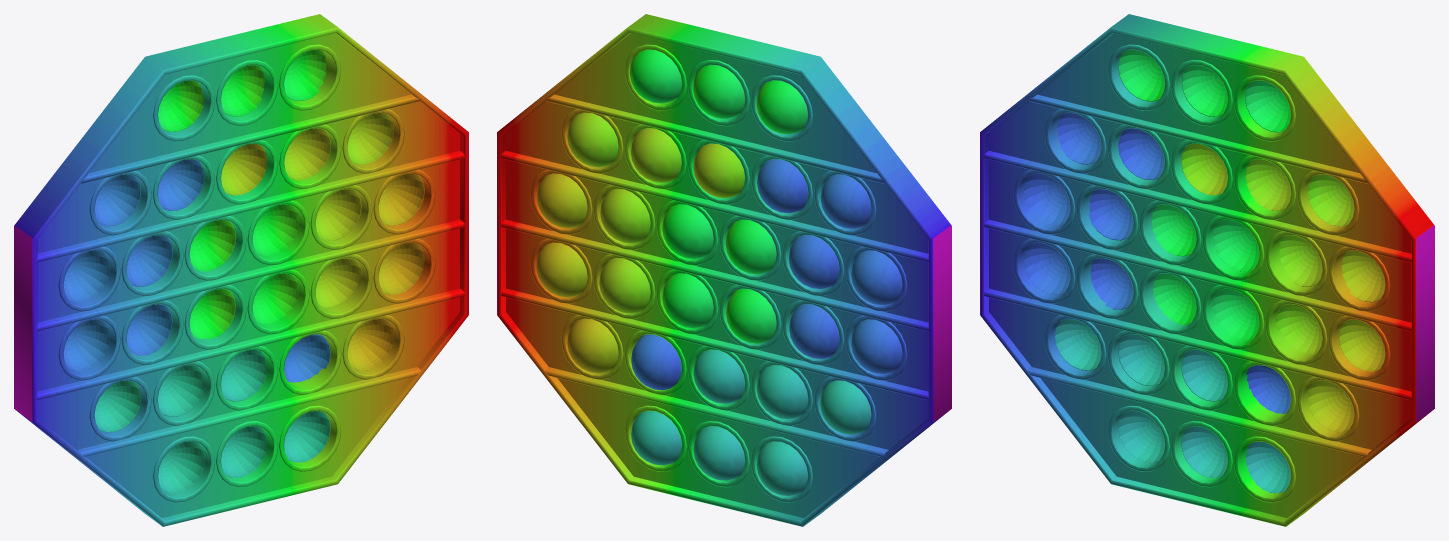
Rendered from Hexa Gone.fbx.
The picture shows the model from 3 angles, left to right: view 1: azimuth 30°, elevation 25°; view 2: azimuth 150°, elevation 25°; view 3: azimuth 330°, elevation 25°; orthographic projection.
Parts seen in each view (by area): view 1: PopIt02_Base_1, Pop19_10, Pop27_4__2_, Pop10_10, Pop03_9, Pop27_4, Pop19_10__5_, Pop20_9, Pop27_4__5_, Pop10_10__3_, Pop03_9__1_, Pop19_10__6_ (+45 smaller); view 2: PopIt02_Base_1, Pop03_9__4_, Pop19_10__4_, Pop10_10__6_, Pop27_4__4_, Pop10_10__1_, Pop19_10__2_, Pop10_10__5_, Pop10_10, Pop03_9__2_, Pop20_9__2_, Pop19_10 (+45 smaller); view 3: PopIt02_Base_1, Pop03_9, Pop20_9, Pop20_9__2_, Pop27_4__4_, Pop10_10, Pop27_4, Pop27_4__1_, Pop19_10, Pop27_4__3_, Pop03_9__2_, Pop27_4__2_ (+45 smaller).
Boxes of the visible parts, box(x1,y1,x2,y2) form: PopIt02_Base_1: box(14, 14, 468, 526); Pop19_10: box(63, 319, 110, 371); Pop27_4__2_: box(94, 380, 141, 432); Pop10_10: box(252, 204, 299, 256); Pop03_9: box(347, 112, 393, 164); Pop27_4: box(158, 441, 204, 493); Pop19_10__5_: box(158, 159, 204, 210); Pop20_9: box(347, 319, 393, 370); Pop27_4__5_: box(284, 411, 330, 462); Pop10_10__3_: box(189, 219, 236, 271); Pop03_9__1_: box(284, 128, 330, 179); Pop19_10__6_: box(94, 174, 140, 226); PopIt02_Base_1: box(497, 14, 951, 526); Pop03_9__4_: box(599, 258, 650, 313); Pop19_10__4_: box(631, 334, 681, 390); Pop10_10__6_: box(629, 49, 681, 103); Pop27_4__4_: box(693, 426, 744, 480); Pop10_10__1_: box(662, 273, 713, 328); Pop19_10__2_: box(851, 250, 902, 304); Pop10_10__5_: box(693, 65, 744, 118); Pop10_10: box(662, 204, 713, 258); Pop03_9__2_: box(693, 143, 744, 197); Pop20_9__2_: box(536, 242, 587, 297); Pop19_10: box(851, 319, 902, 373); PopIt02_Base_1: box(980, 14, 1434, 526); Pop03_9: box(1307, 174, 1354, 226); Pop20_9: box(1307, 380, 1354, 432); Pop20_9__2_: box(1338, 319, 1385, 371); Pop27_4__4_: box(1181, 426, 1227, 477); Pop10_10: box(1212, 219, 1259, 271); Pop27_4: box(1118, 411, 1164, 462); Pop27_4__1_: box(1118, 334, 1164, 386); Pop19_10: box(1024, 242, 1070, 294); Pop27_4__3_: box(1181, 349, 1227, 401); Pop03_9__2_: box(1181, 143, 1227, 195); Pop27_4__2_: box(1055, 319, 1101, 370).
Size of the model in its own units: 458 by 458 by 45.67.
